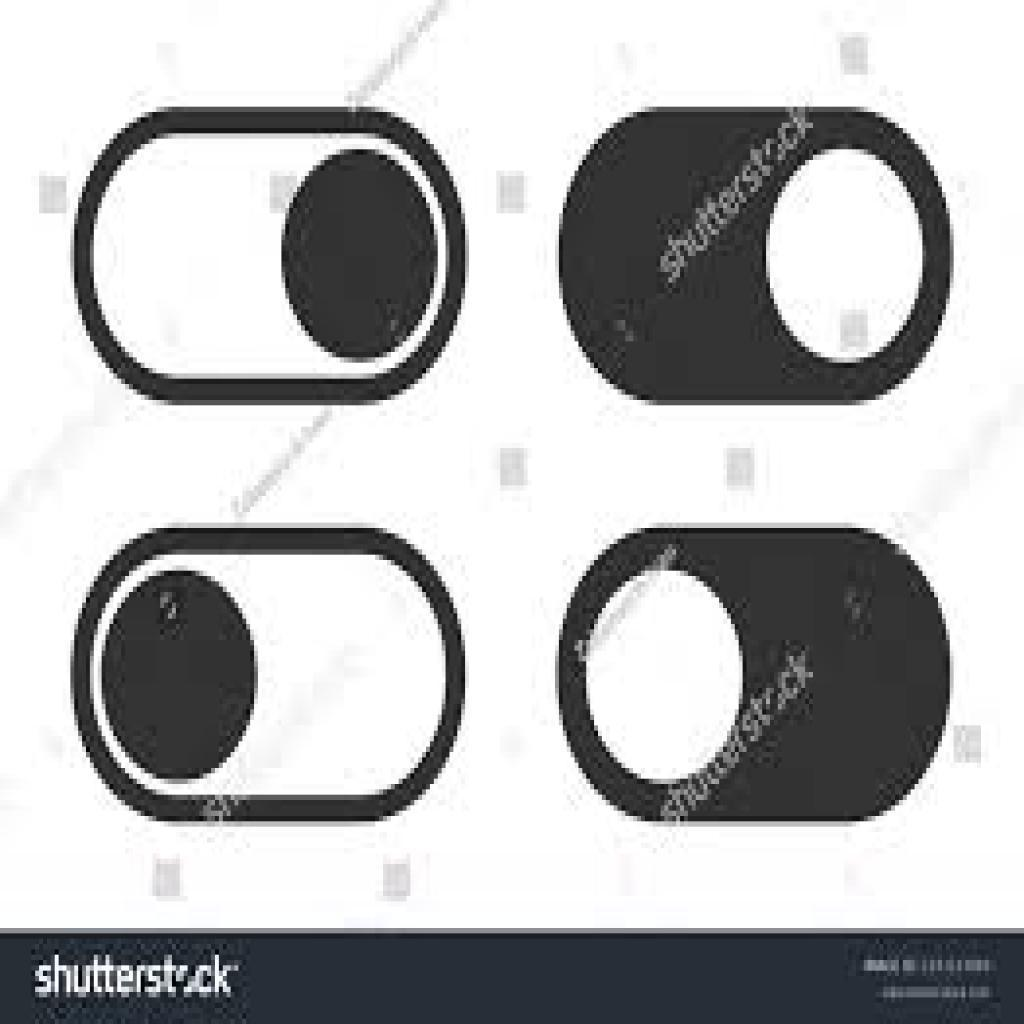switch: (557, 106, 956, 406), (65, 530, 468, 826), (71, 108, 472, 403), (555, 526, 951, 820)
